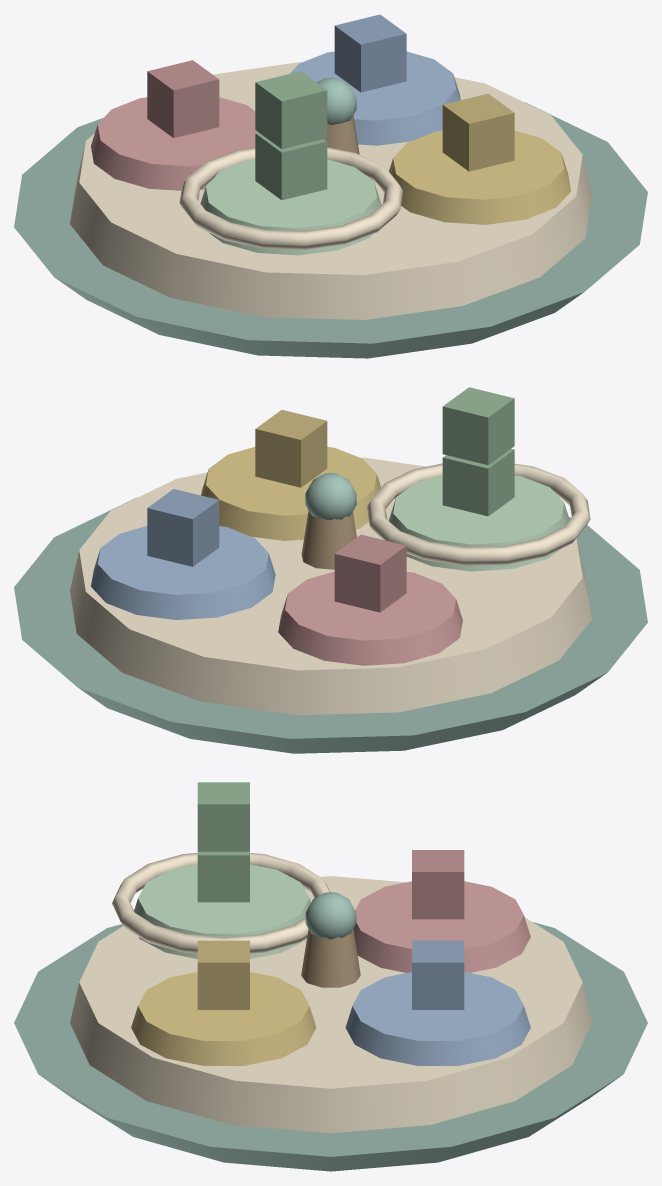
File: party_mg23_simon_pads.glb
The picture shows the model from 3 angles, top to bottom: view 1: azimuth 30°, elevation 25°; view 2: azimuth 150°, elevation 25°; view 3: azimuth 270°, elevation 25°; orthographic projection.
Visible parts, largest first — view 1: _MeshInstance3D_32, _MeshInstance3D_31, _MeshInstance3D_41, _MeshInstance3D_33, _MeshInstance3D_37, _MeshInstance3D_35, _MeshInstance3D_38, _MeshInstance3D_34, _MeshInstance3D_36, _MeshInstance3D_42, _MeshInstance3D_40, _MeshInstance3D_39 (+2 smaller); view 2: _MeshInstance3D_32, _MeshInstance3D_31, _MeshInstance3D_35, _MeshInstance3D_33, _MeshInstance3D_37, _MeshInstance3D_41, _MeshInstance3D_38, _MeshInstance3D_40, _MeshInstance3D_34, _MeshInstance3D_42, _MeshInstance3D_36, _MeshInstance3D_39 (+2 smaller); view 3: _MeshInstance3D_32, _MeshInstance3D_31, _MeshInstance3D_35, _MeshInstance3D_41, _MeshInstance3D_33, _MeshInstance3D_37, _MeshInstance3D_38, _MeshInstance3D_40, _MeshInstance3D_34, _MeshInstance3D_36, _MeshInstance3D_42, _MeshInstance3D_39 (+2 smaller).
Part boxes in pixels (x1,y1,x2,y2): _MeshInstance3D_32: (70,62,591,319); _MeshInstance3D_31: (14,102,647,358); _MeshInstance3D_41: (389,130,570,224); _MeshInstance3D_33: (91,97,258,190); _MeshInstance3D_37: (200,159,381,255); _MeshInstance3D_35: (290,51,460,145); _MeshInstance3D_38: (179,147,403,249); _MeshInstance3D_34: (147,60,219,138); _MeshInstance3D_36: (334,14,406,92); _MeshInstance3D_42: (442,93,514,171); _MeshInstance3D_40: (255,71,327,148); _MeshInstance3D_39: (255,132,327,200); _MeshInstance3D_32: (70,457,591,715); _MeshInstance3D_31: (14,497,647,753); _MeshInstance3D_35: (91,526,275,619); _MeshInstance3D_33: (278,571,462,665); _MeshInstance3D_37: (388,475,569,571); _MeshInstance3D_41: (201,447,380,540); _MeshInstance3D_38: (367,463,590,565); _MeshInstance3D_40: (442,387,514,465); _MeshInstance3D_34: (334,534,406,612); _MeshInstance3D_42: (255,410,327,487); _MeshInstance3D_36: (147,489,219,566); _MeshInstance3D_39: (442,448,514,516); _MeshInstance3D_32: (70,876,591,1133); _MeshInstance3D_31: (14,922,647,1171); _MeshInstance3D_35: (345,972,530,1065); _MeshInstance3D_41: (131,972,316,1065); _MeshInstance3D_33: (353,881,530,972); _MeshInstance3D_37: (134,864,310,958); _MeshInstance3D_38: (112,853,329,953); _MeshInstance3D_40: (197,782,249,851); _MeshInstance3D_34: (412,850,464,919); _MeshInstance3D_36: (412,940,464,1009); _MeshInstance3D_42: (197,940,249,1009); _MeshInstance3D_39: (197,851,249,902).
Size of the model in its own units: 3.4 by 1.27 by 3.4.
